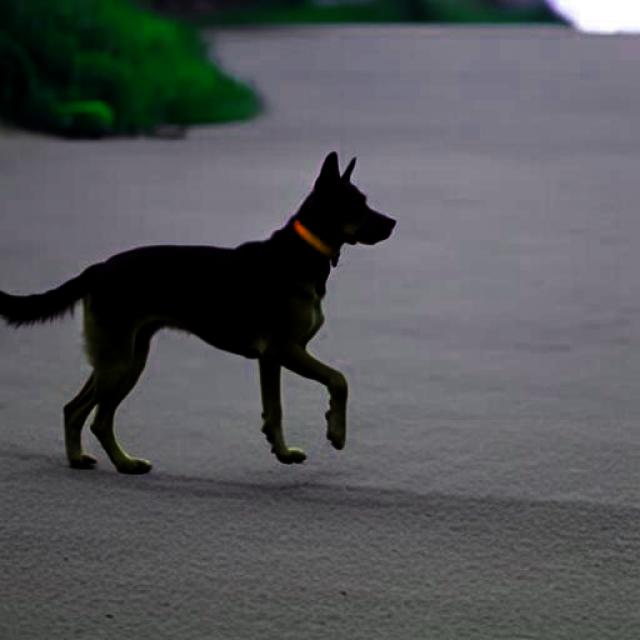Dog: (0, 151, 396, 475)
